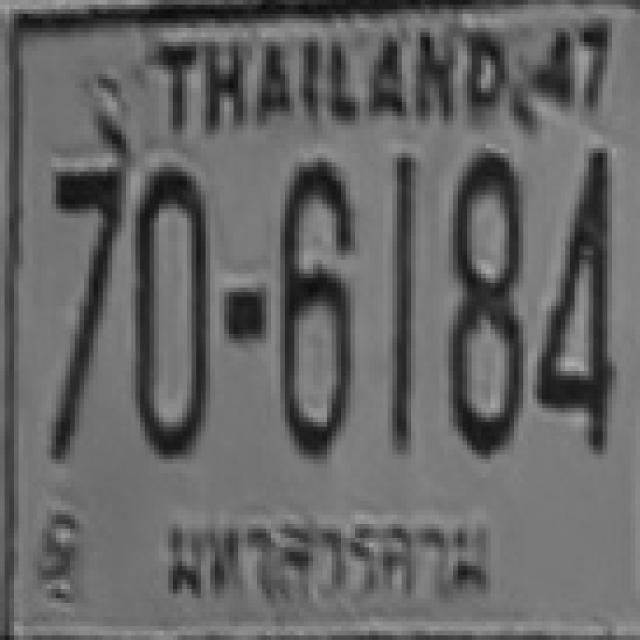0: (276, 264, 350, 454), (448, 148, 518, 288)
7: (54, 167, 119, 315)
MahaSarakham: (148, 504, 507, 609)
